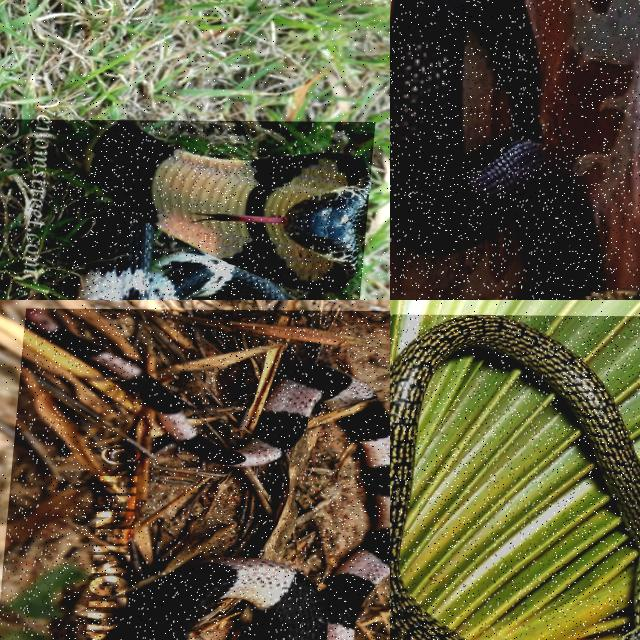Bungarus candidus: (123, 403, 389, 639)
Chrysopelea ornata: (390, 315, 639, 639)
Naja kaouthia: (390, 0, 639, 299)
Naja siamensis: (76, 121, 368, 299)
snake: (390, 315, 639, 639), (390, 0, 639, 299), (123, 403, 389, 639), (76, 121, 368, 299)
